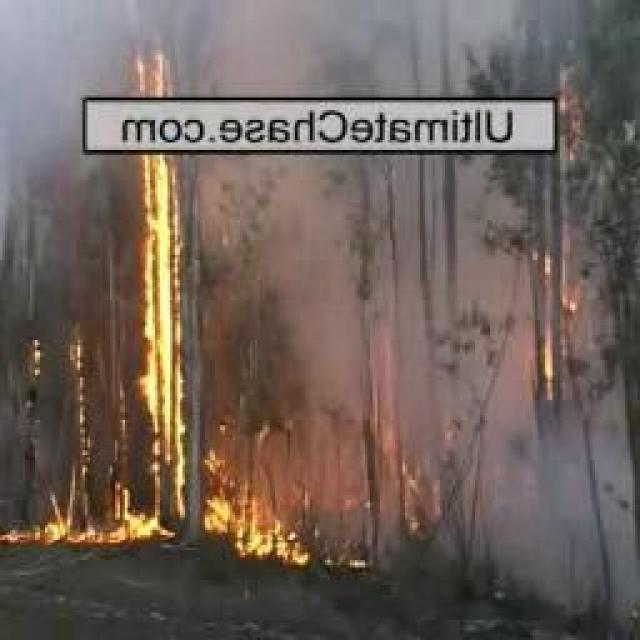Fire: (143, 32, 176, 538), (215, 448, 314, 561), (1, 508, 102, 547)
